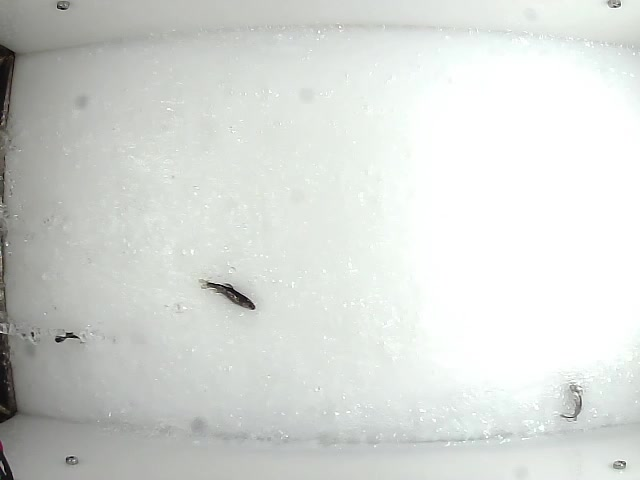fish: (196, 278, 259, 311), (559, 383, 584, 422)
